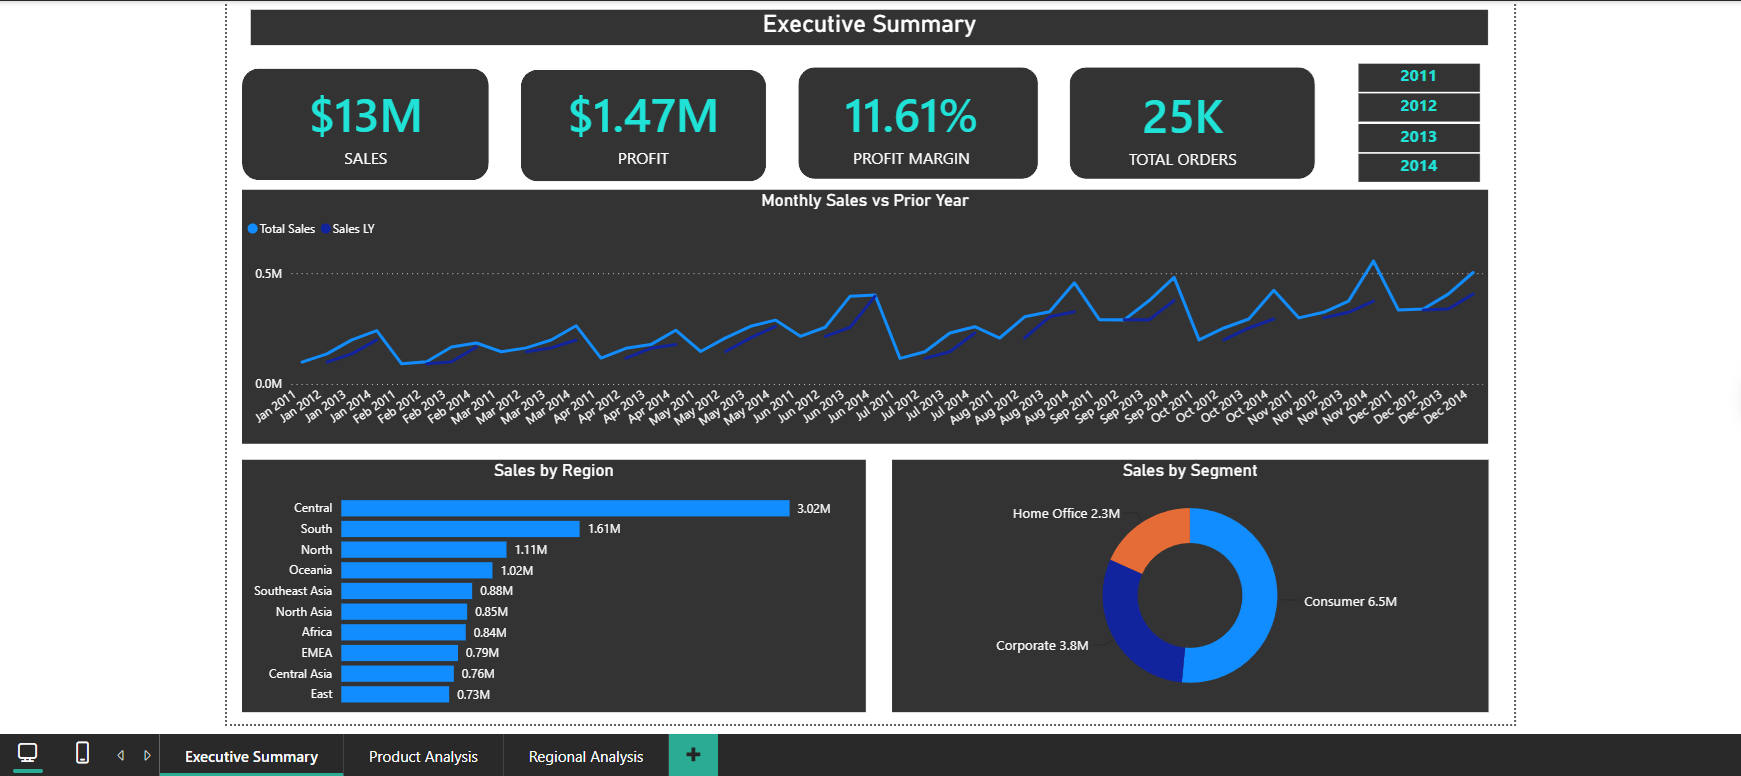

The dashboard page shown, as its layout file describes it:
{"tool":"powerbi","page":{"name":"Executive Summary","canvas":[1280,720],"ordinal":0},"visuals":[{"type":"group","id":"g1","title":"Group 1","box":[14.9,66.5,1067.6,113.9],"z":0,"group":"g2"},{"type":"lineChart","title":"Monthly Sales vs Prior Year","fields":{"Y":["_Measures.Total Sales","_Measures.Sales LY"],"Category":["dim_date.month_name"]},"box":[14.9,187.8,1240.2,252.5],"z":0},{"type":"listSlicer","fields":{"Values":["dim_date.year"]},"box":[1119.6,56,146.8,134.3],"z":1000},{"type":"cardVisual","title":"Sales","fields":{"Data":["_Measures.Total Sales"]},"box":[23.1,61,229.2,124.9],"z":1000,"group":"g2"},{"type":"shape","box":[14.9,67.9,245.6,111.1],"z":1000,"group":"g1"},{"type":"shape","box":[567.9,66.5,238.8,111.1],"z":2000,"group":"g1"},{"type":"clusteredBarChart","title":"Sales by Region","fields":{"Category":["dim_geography.region"],"Y":["_Measures.Total Sales"]},"box":[14.9,456.5,620.7,251.3],"z":2000},{"type":"cardVisual","title":"Sales","fields":{"Data":["_Measures.Total Profit"]},"box":[292.1,61,244.3,124.9],"z":3000,"group":"g2"},{"type":"shape","box":[292.1,69.2,244.3,111.1],"z":3000,"group":"g1"},{"type":"donutChart","title":"Sales by Segment","fields":{"Y":["_Measures.Total Sales"],"Category":["dim_customer.segment"]},"box":[661.8,456.5,593.4,251.3],"z":3000},{"type":"group","id":"g2","title":"Group 2","box":[14.9,61,1082.2,126.9],"z":4000},{"type":"cardVisual","title":"Sales","fields":{"Data":["_Measures.Profit Margin %"]},"box":[536.3,61,290.9,124.9],"z":4000,"group":"g2"},{"type":"shape","box":[838.2,66.5,244.3,111.1],"z":4000,"group":"g1"},{"type":"textbox","title":"Executive Summary","box":[23.6,8.7,1231.5,34.8],"z":5000},{"type":"cardVisual","title":"Sales","fields":{"Data":["_Measures.Total Orders"]},"box":[806.7,62.4,290.9,124.9],"z":5000,"group":"g2"}]}

Visuals, with their boxes on the page's 1280x720 design canvas (x1, y1, x2, y2). These are canvas units, not pixel positions in the 1741x776 screenshot, which may show the page scaled, cropped or inside an application window:
"Group 1" group: detection(15, 66, 1082, 180)
"Monthly Sales vs Prior Year" lineChart: detection(15, 188, 1255, 440)
listSlicer - dim_date.year: detection(1120, 56, 1266, 190)
"Sales" cardVisual: detection(23, 61, 252, 186)
shape: detection(15, 68, 260, 179)
shape: detection(568, 66, 807, 178)
"Sales by Region" clusteredBarChart: detection(15, 456, 636, 708)
"Sales" cardVisual: detection(292, 61, 536, 186)
shape: detection(292, 69, 536, 180)
"Sales by Segment" donutChart: detection(662, 456, 1255, 708)
"Group 2" group: detection(15, 61, 1097, 188)
"Sales" cardVisual: detection(536, 61, 827, 186)
shape: detection(838, 66, 1082, 178)
"Executive Summary" textbox: detection(24, 9, 1255, 44)
"Sales" cardVisual: detection(807, 62, 1098, 187)
